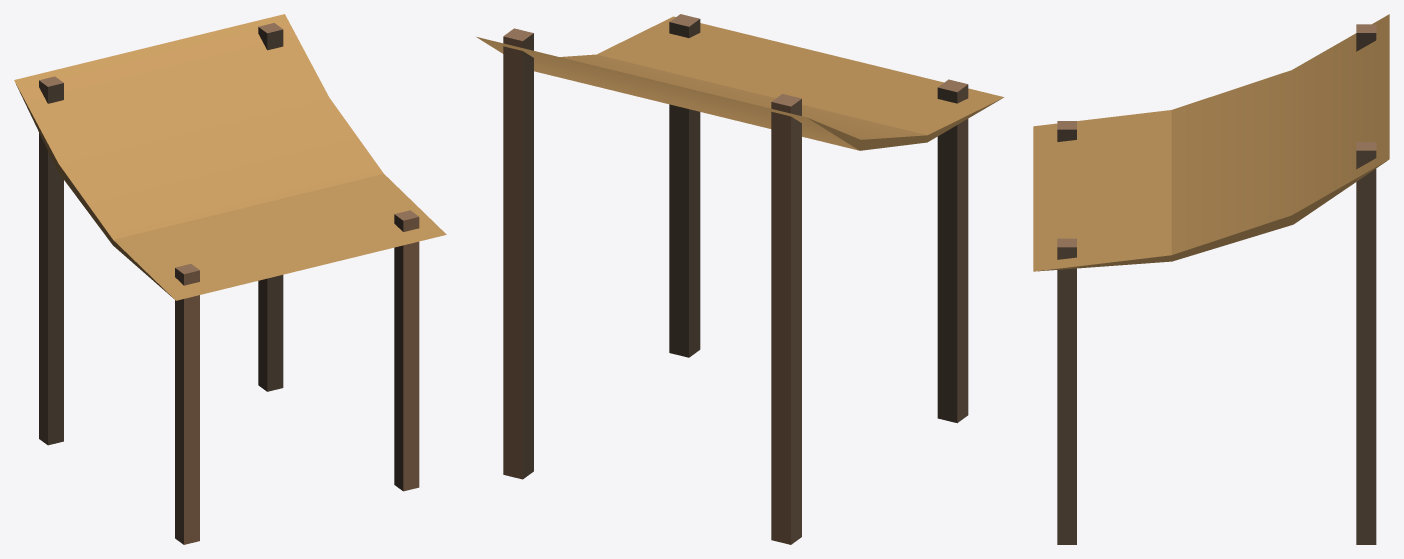
The model's file is TB_D_Prop_StoreTent_B.FBX.
3 views of the same model, side by side, from view 1: azimuth 30°, elevation 25°; view 2: azimuth 150°, elevation 25°; view 3: azimuth 270°, elevation 25° (orthographic). The views are drawn at different scales.
Visible parts, largest first — view 1: TB_D_Prop_StoreTent_B; view 2: TB_D_Prop_StoreTent_B; view 3: TB_D_Prop_StoreTent_B.
Boxes of the visible parts, x1=… form: TB_D_Prop_StoreTent_B: x1=14, y1=14, x2=446, y2=544; TB_D_Prop_StoreTent_B: x1=476, y1=14, x2=1004, y2=544; TB_D_Prop_StoreTent_B: x1=1033, y1=14, x2=1389, y2=544.
Bounding box in the file's own units: 2.33 × 2.95 × 2.41.
